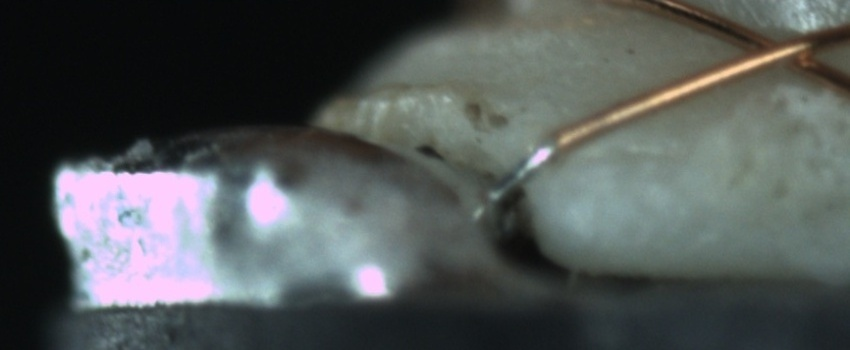CL: (713, 15, 846, 82)
DL: (567, 129, 691, 185)
TS: (493, 137, 562, 202)
